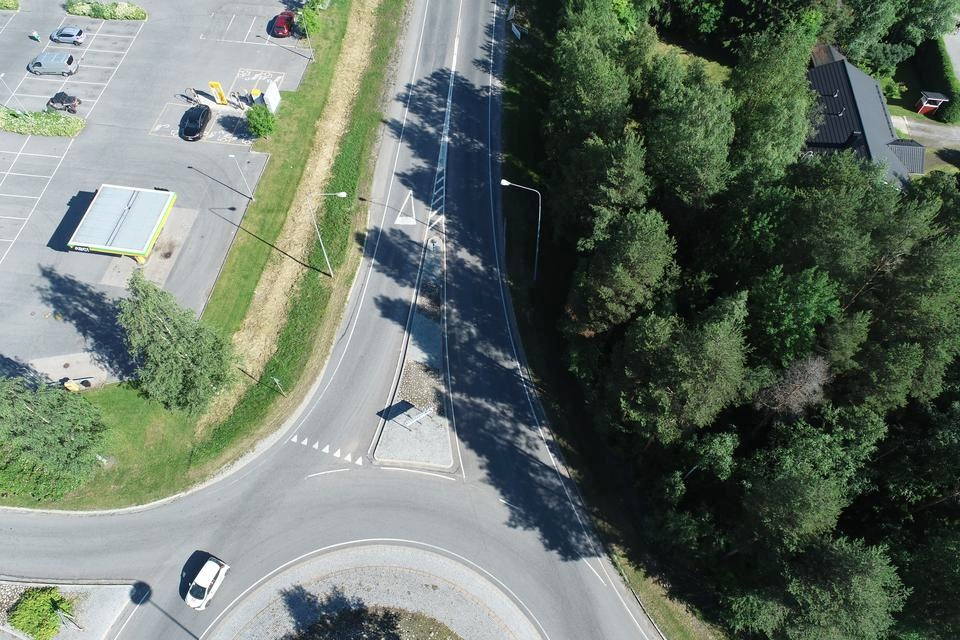roundabout: (66, 458, 715, 640)
